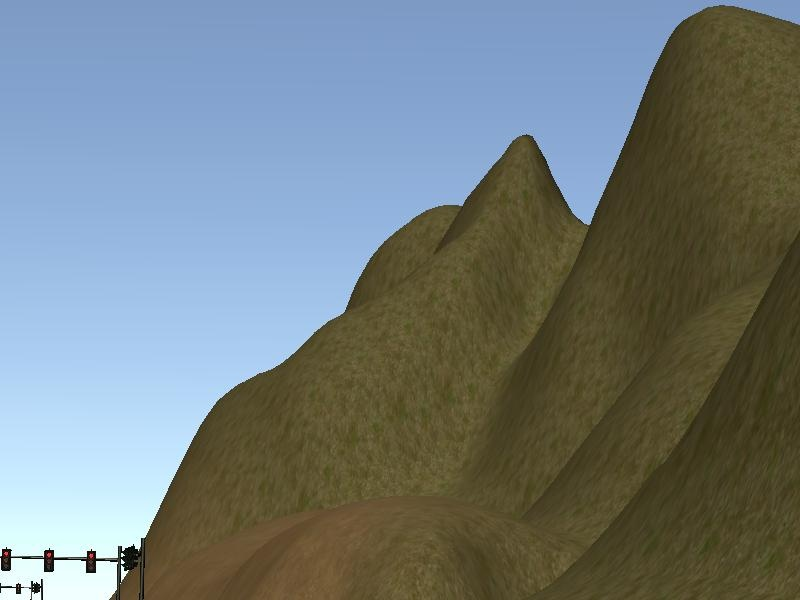red: (85, 550, 97, 573), (43, 549, 55, 572), (1, 548, 11, 569)
